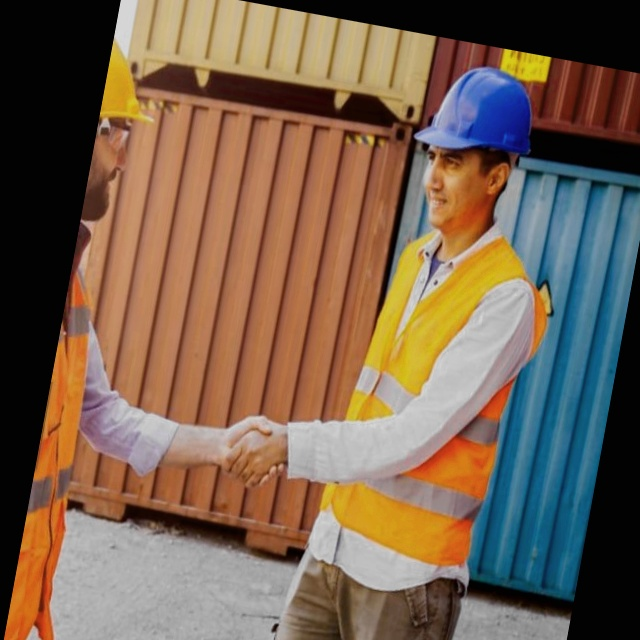Con_Casco: (398, 54, 543, 237)
Con_Chaleco: (310, 209, 559, 568)
